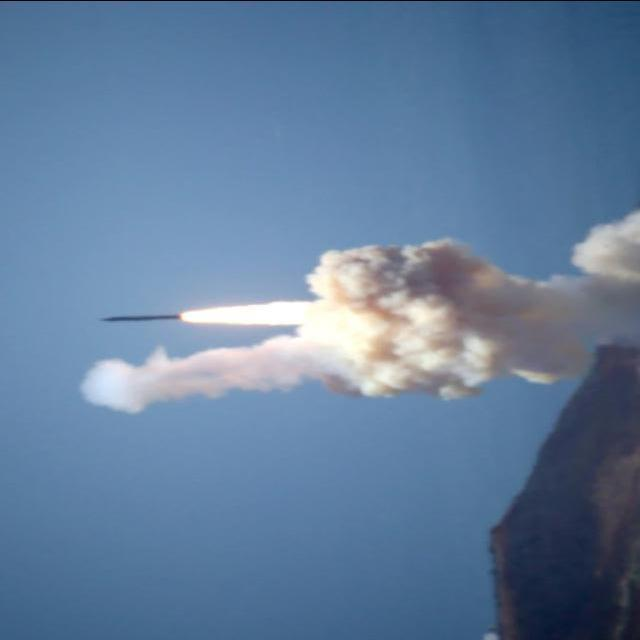missile: (96, 310, 190, 323)
